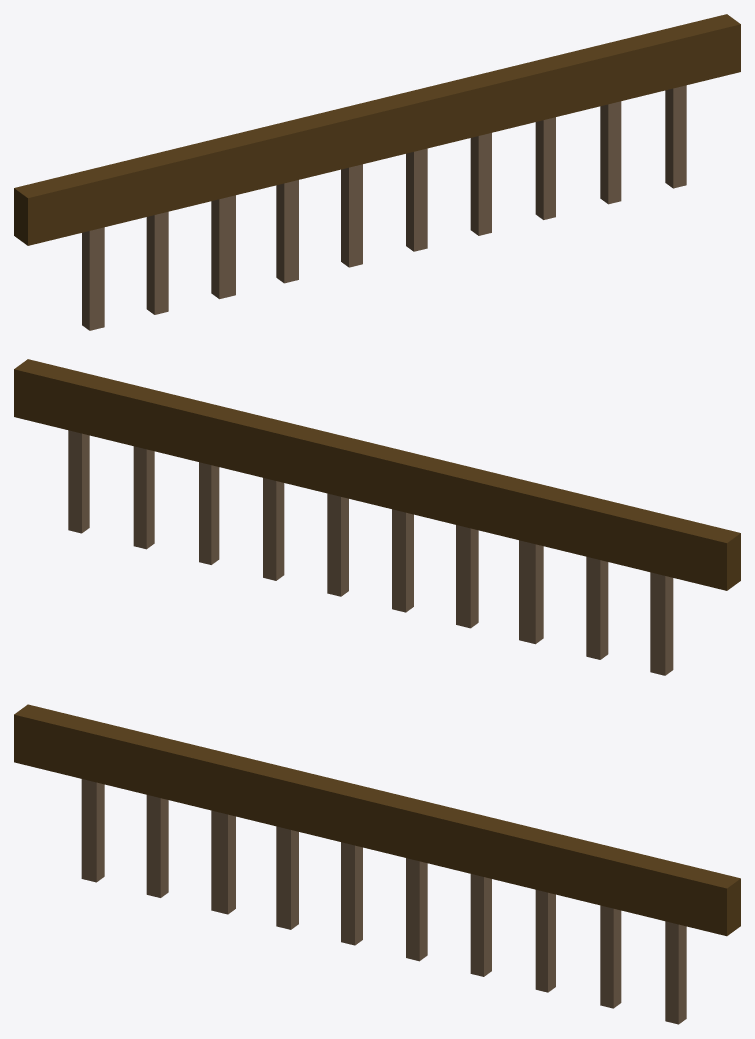
File: Rail01.fbx
The picture shows the model from 3 angles, top to bottom: view 1: azimuth 30°, elevation 25°; view 2: azimuth 150°, elevation 25°; view 3: azimuth 330°, elevation 25°; orthographic projection.
Visible parts, largest first — view 1: Rail01; view 2: Rail01; view 3: Rail01.
Part boxes in pixels (x1=…): Rail01: x1=14, y1=14, x2=740, y2=330; Rail01: x1=14, y1=359, x2=740, y2=675; Rail01: x1=14, y1=704, x2=740, y2=1024.
Size of the model in its own units: 15.63 by 3.16 by 0.5296.
